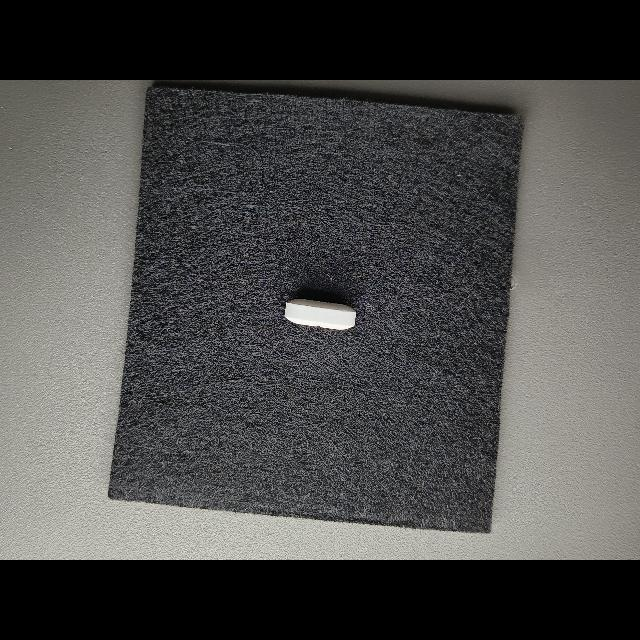Intact Pill: (284, 298, 356, 329)
